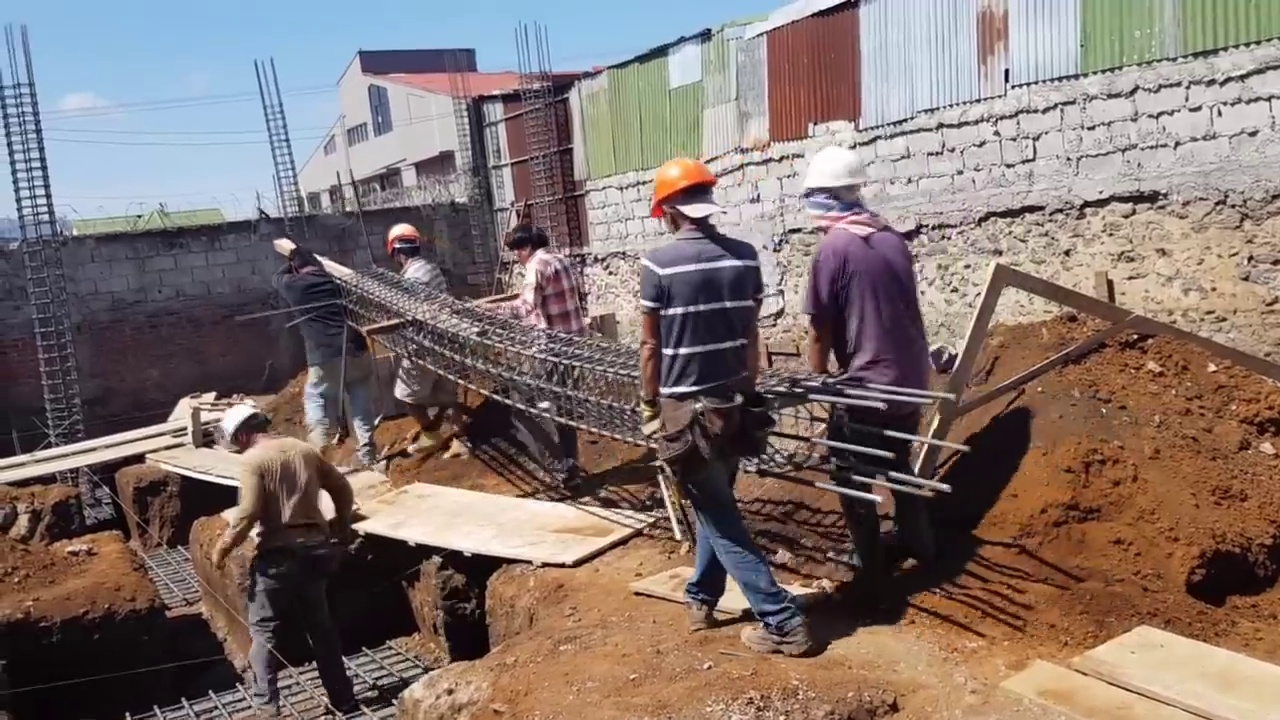helmet: (649, 156, 717, 219), (801, 144, 871, 192), (222, 405, 261, 447), (387, 222, 423, 255)
helmet-off: (504, 221, 550, 268), (288, 245, 322, 278)
helmet-on: (650, 155, 719, 237), (800, 143, 873, 218), (221, 405, 271, 452), (386, 221, 423, 269)
person: (637, 148, 820, 655), (797, 135, 940, 613), (208, 401, 358, 719), (476, 219, 591, 488), (267, 240, 377, 470), (382, 219, 475, 458)
